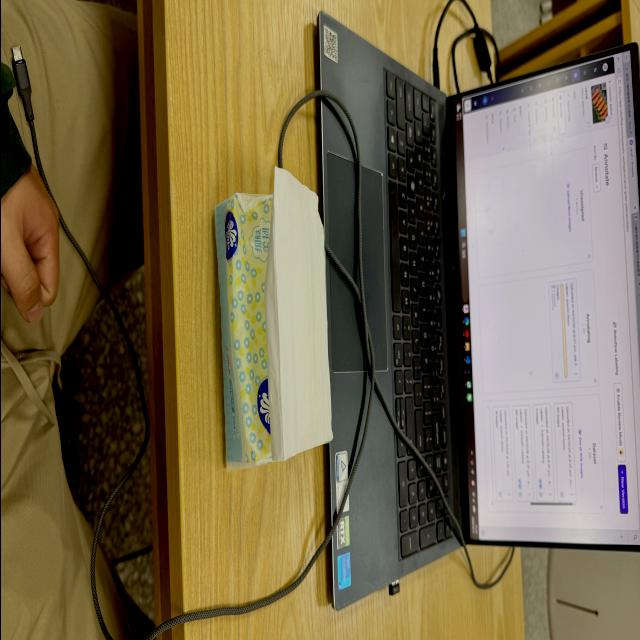tissue: (214, 169, 331, 468), (214, 194, 271, 469)
